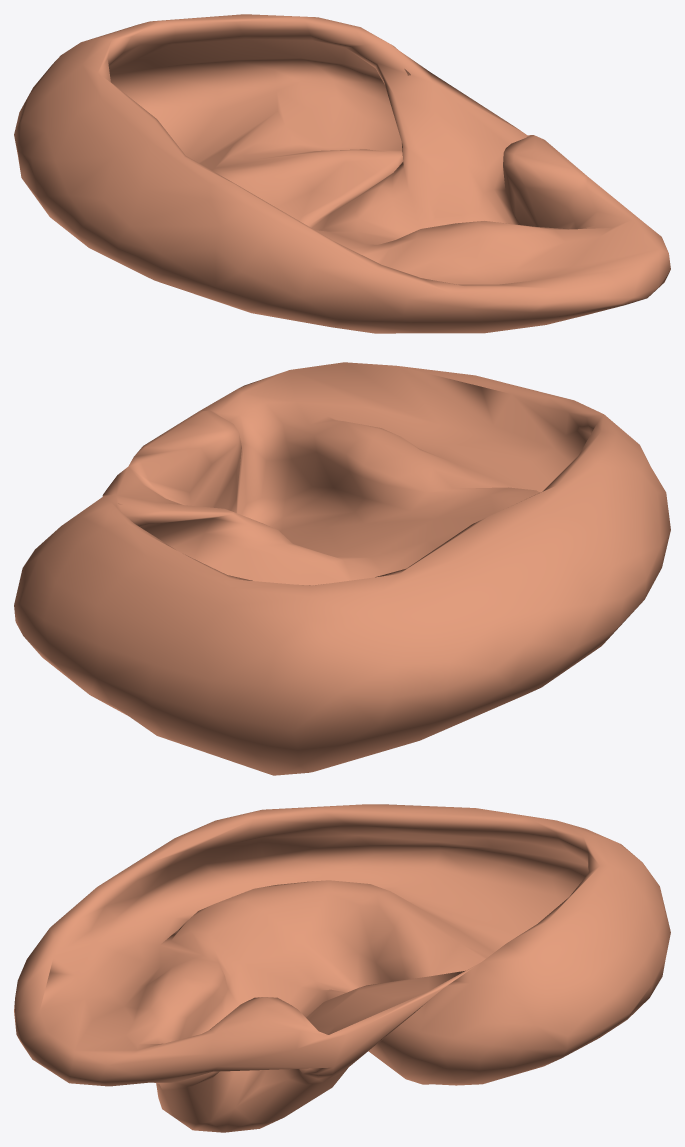
Rendered from ear.glb.
3 renders of one model, top to bottom at view 1: azimuth 30°, elevation 25°; view 2: azimuth 150°, elevation 25°; view 3: azimuth 270°, elevation 25°, orthographic. The views are drawn at different scales.
Parts seen in each view (by area): view 1: Ear; view 2: Ear; view 3: Ear.
Boxes of the visible parts, x1,y1,x2,y2 form: Ear: (14, 14, 670, 333); Ear: (14, 362, 670, 775); Ear: (14, 804, 670, 1132).
Size of the model in its own units: 1.98 by 0.7706 by 2.6.
